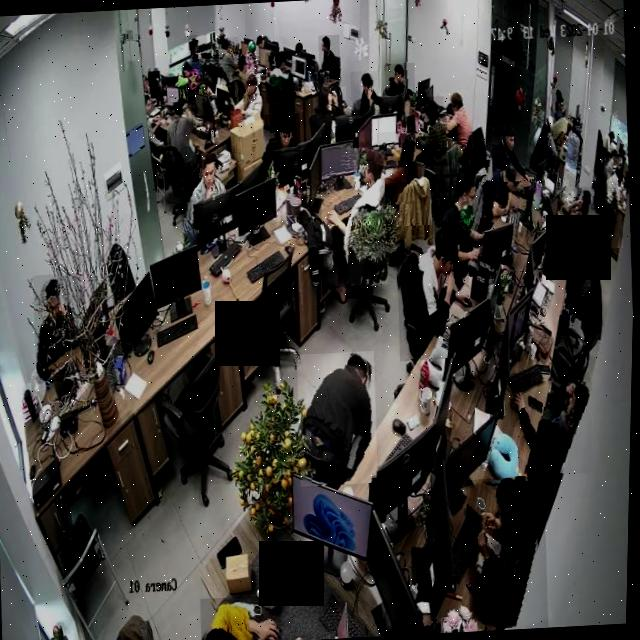person: (465, 476, 554, 632), (296, 351, 382, 487), (395, 223, 475, 362), (318, 147, 391, 288), (510, 379, 597, 477), (33, 274, 86, 383), (439, 172, 491, 277), (553, 209, 595, 317), (181, 152, 232, 231), (202, 595, 285, 640), (376, 131, 421, 206), (473, 159, 524, 225), (164, 101, 204, 184), (491, 121, 536, 183), (599, 153, 626, 249), (414, 97, 449, 167), (228, 65, 264, 128), (442, 91, 475, 152), (264, 51, 297, 104), (557, 186, 596, 229), (264, 113, 302, 154), (312, 86, 348, 127), (350, 71, 381, 118), (212, 37, 241, 85), (318, 35, 342, 84), (384, 63, 416, 97), (188, 35, 209, 73)
